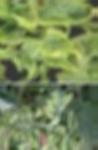Tomato leaf yellow virus: (6, 0, 95, 24), (23, 39, 73, 62), (41, 24, 67, 41), (68, 109, 78, 132), (47, 96, 59, 114), (31, 128, 41, 147), (63, 135, 73, 150)
